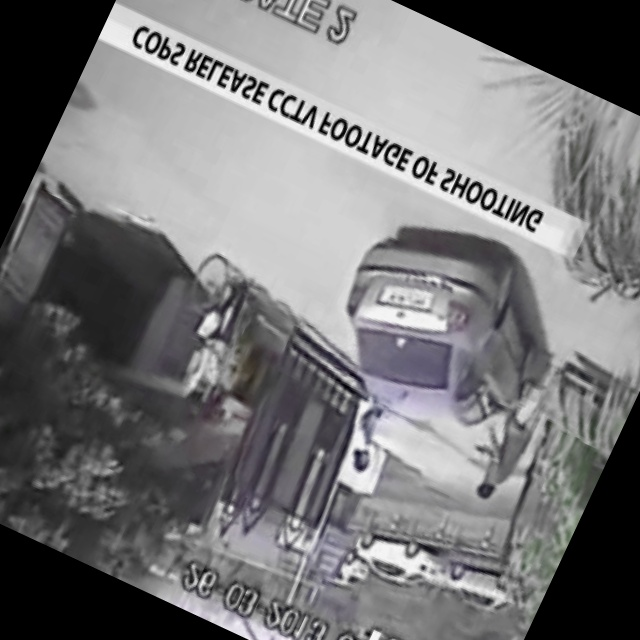gun: (468, 441, 491, 461)
